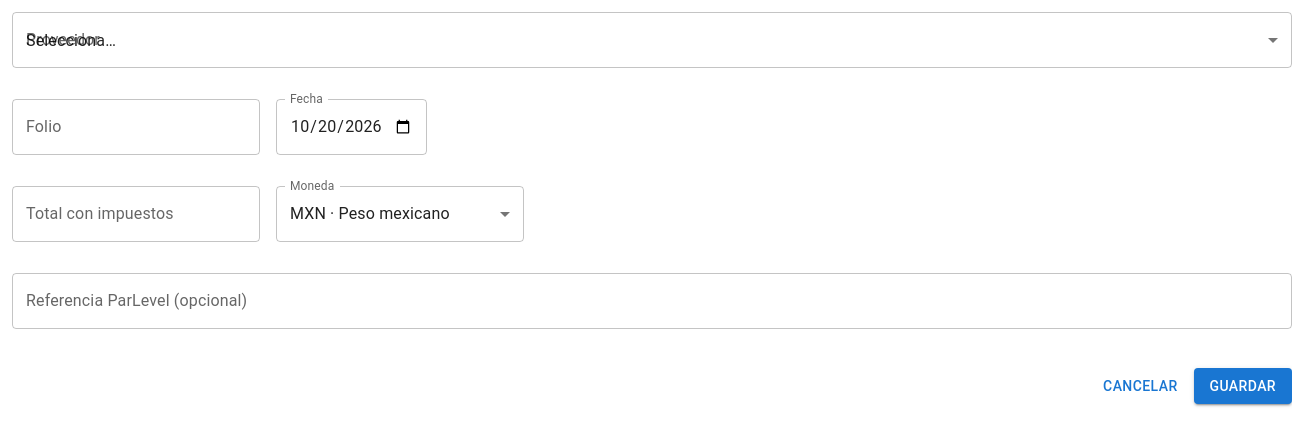
Test case: PurchaseOrderForm › AC-003-08 valida folio, total y proveedor antes de enviar
Type "0" into the field labelled "Total con impuestos" at (136, 214), box [12,186,260,242]
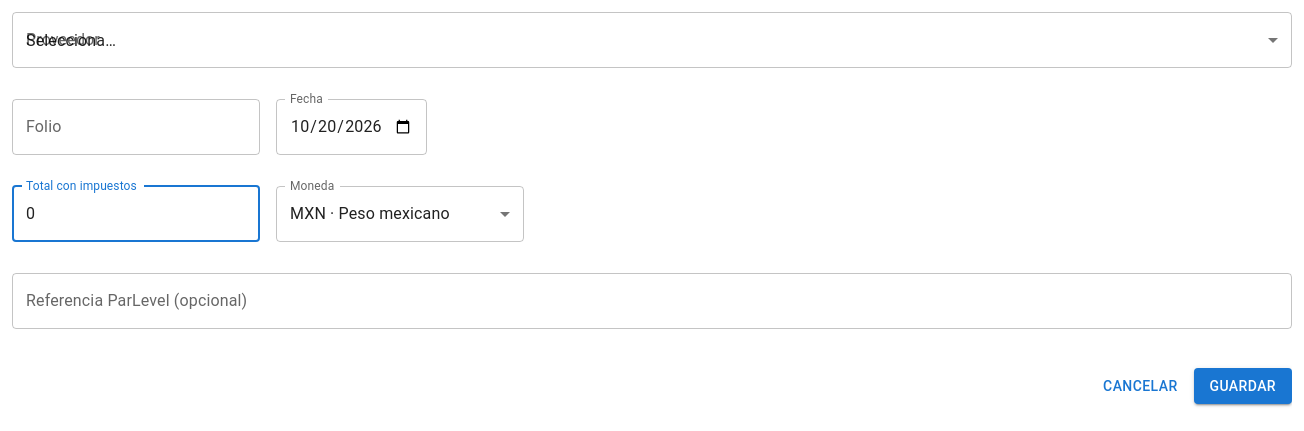
Click the button "Guardar" at (1243, 386), box [1194,368,1292,404]
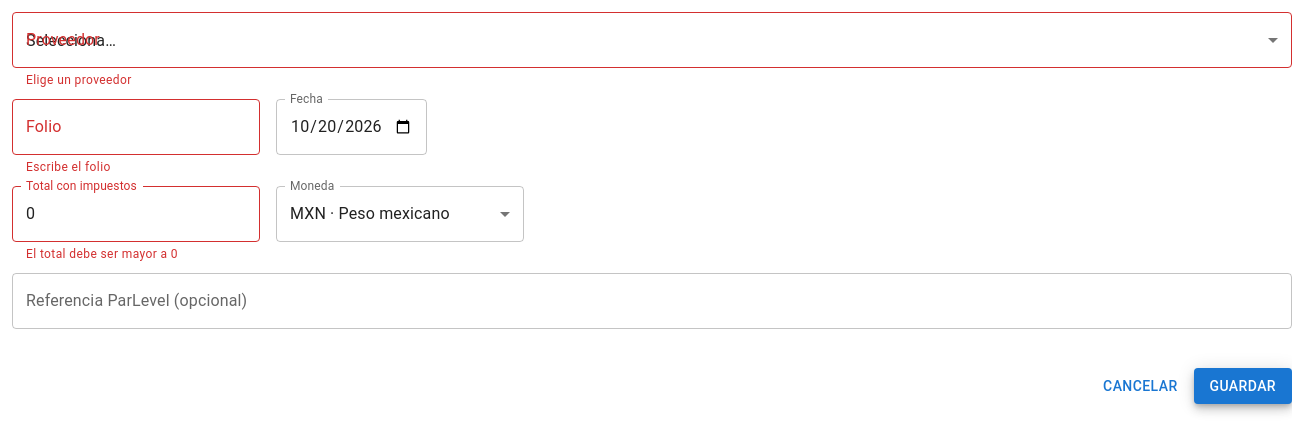
Expected: the text "Escribe el folio" is shown, [26,160,111,174]
Expected: the text "El total debe ser mayor a 0" is shown, [26,247,178,261]
Expected: the text "Elige un proveedor" is shown, [26,73,132,87]
